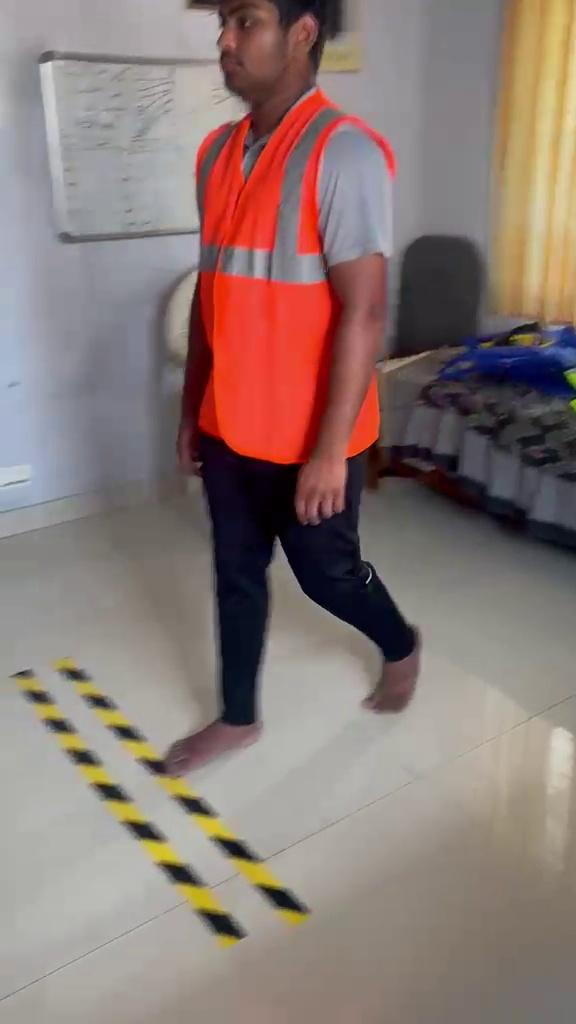BorderLine: (7, 654, 312, 948)
No_Helmet: (213, 0, 327, 104)
Person: (158, 0, 420, 774)
Vest: (194, 87, 396, 467)
